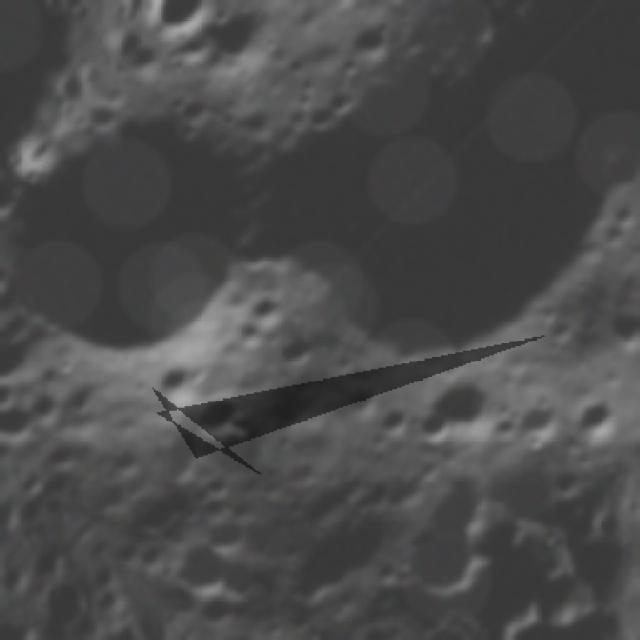crater: (0, 58, 386, 499), (232, 0, 640, 402), (102, 462, 202, 562), (190, 0, 298, 91), (427, 366, 516, 454), (503, 389, 579, 465), (183, 379, 255, 452), (567, 385, 640, 457), (141, 351, 214, 423), (0, 314, 48, 403), (209, 550, 271, 612), (198, 503, 259, 565), (328, 365, 389, 427), (238, 280, 298, 340), (342, 13, 401, 72), (191, 582, 247, 638), (370, 394, 424, 448), (267, 329, 319, 383), (223, 310, 274, 361), (544, 460, 591, 508), (108, 531, 152, 574), (321, 78, 364, 120), (351, 615, 398, 640), (265, 627, 339, 640), (388, 635, 438, 640)
